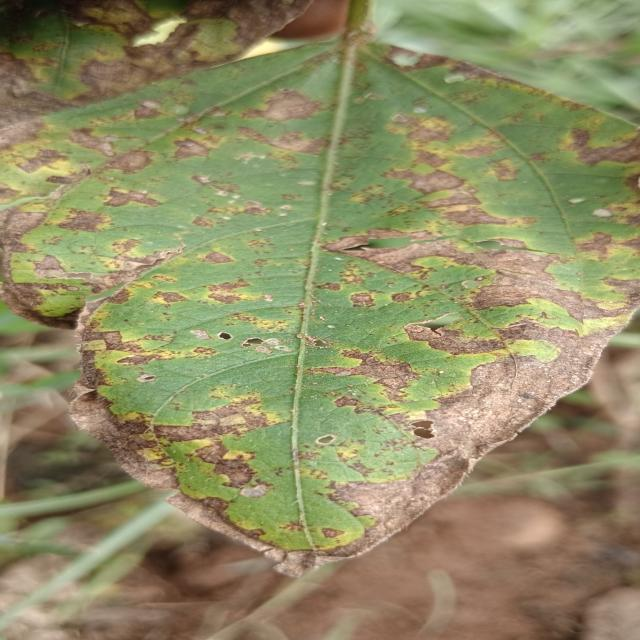Black gram_leaf spot: (0, 24, 640, 584)
